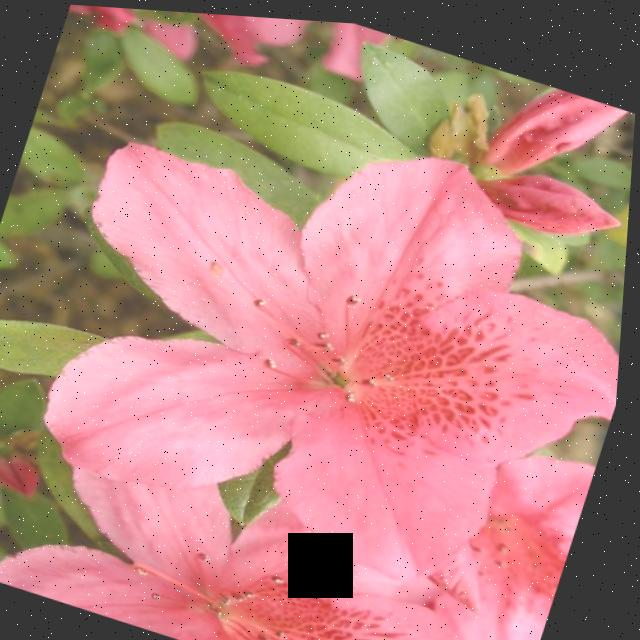azalea: (10, 87, 636, 600), (0, 402, 540, 640)
